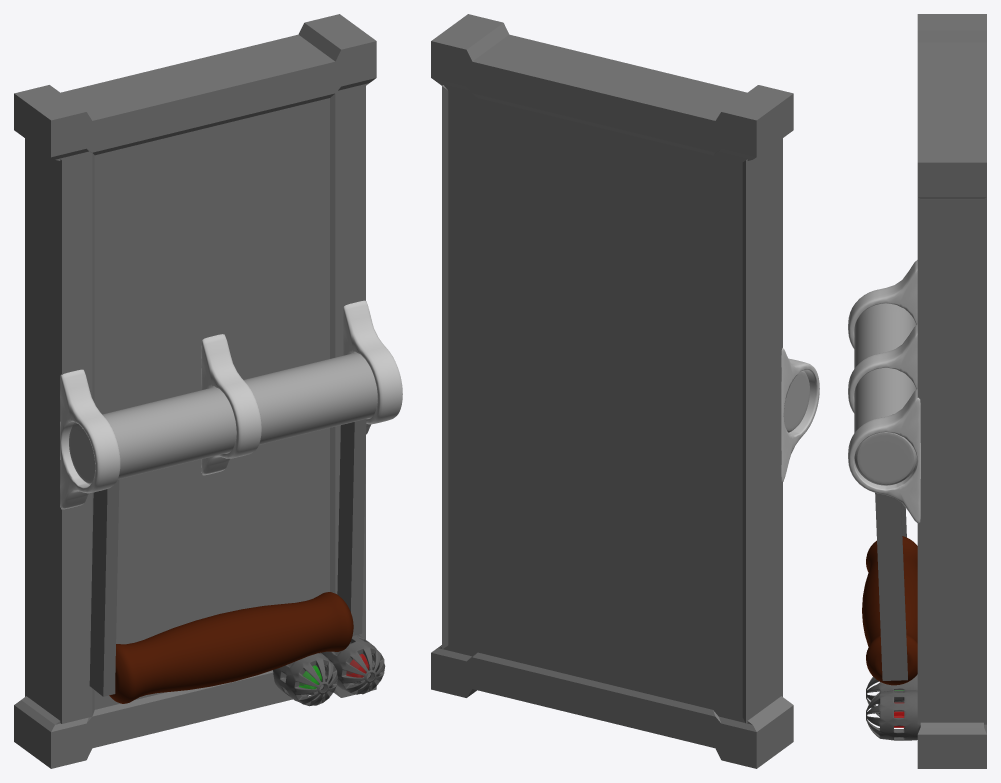
File: Lever.fbx
The picture shows the model from 3 angles, left to right: view 1: azimuth 30°, elevation 25°; view 2: azimuth 150°, elevation 25°; view 3: azimuth 270°, elevation 25°; orthographic projection. The views are drawn at different scales.
Parts seen in each view (by area): view 1: pCube1, pCylinder1, pCylinder6, pCube2, pCylinder4, pCylinder7 (×2), pCylinder3, pCylinder5; view 2: pCube1, pCylinder4, pCylinder1; view 3: pCube1, pCylinder1, pCube2, pCylinder6, pCylinder5, pCylinder7 (×2), pCylinder4, pCylinder3.
Boxes of the visible parts, x1,y1,x2,y2 form: pCube1: (14, 14, 376, 768); pCylinder1: (69, 352, 377, 484); pCylinder6: (109, 592, 353, 703); pCube2: (89, 419, 366, 696); pCylinder4: (60, 369, 120, 509); pCylinder7 (×2): (273, 634, 385, 706); pCylinder3: (201, 334, 261, 475); pCylinder5: (343, 300, 402, 434); pCube1: (431, 14, 793, 768); pCylinder4: (781, 348, 819, 482); pCylinder1: (783, 370, 809, 432); pCube1: (917, 14, 986, 768); pCylinder1: (854, 303, 916, 485); pCube2: (875, 492, 907, 680); pCylinder6: (862, 536, 917, 685); pCylinder5: (848, 388, 920, 523); pCylinder7 (×2): (866, 674, 920, 740); pCylinder4: (848, 260, 917, 348); pCylinder3: (848, 324, 917, 413).
Bounding box in the file's own units: 27.67 × 52.66 × 10.93.
